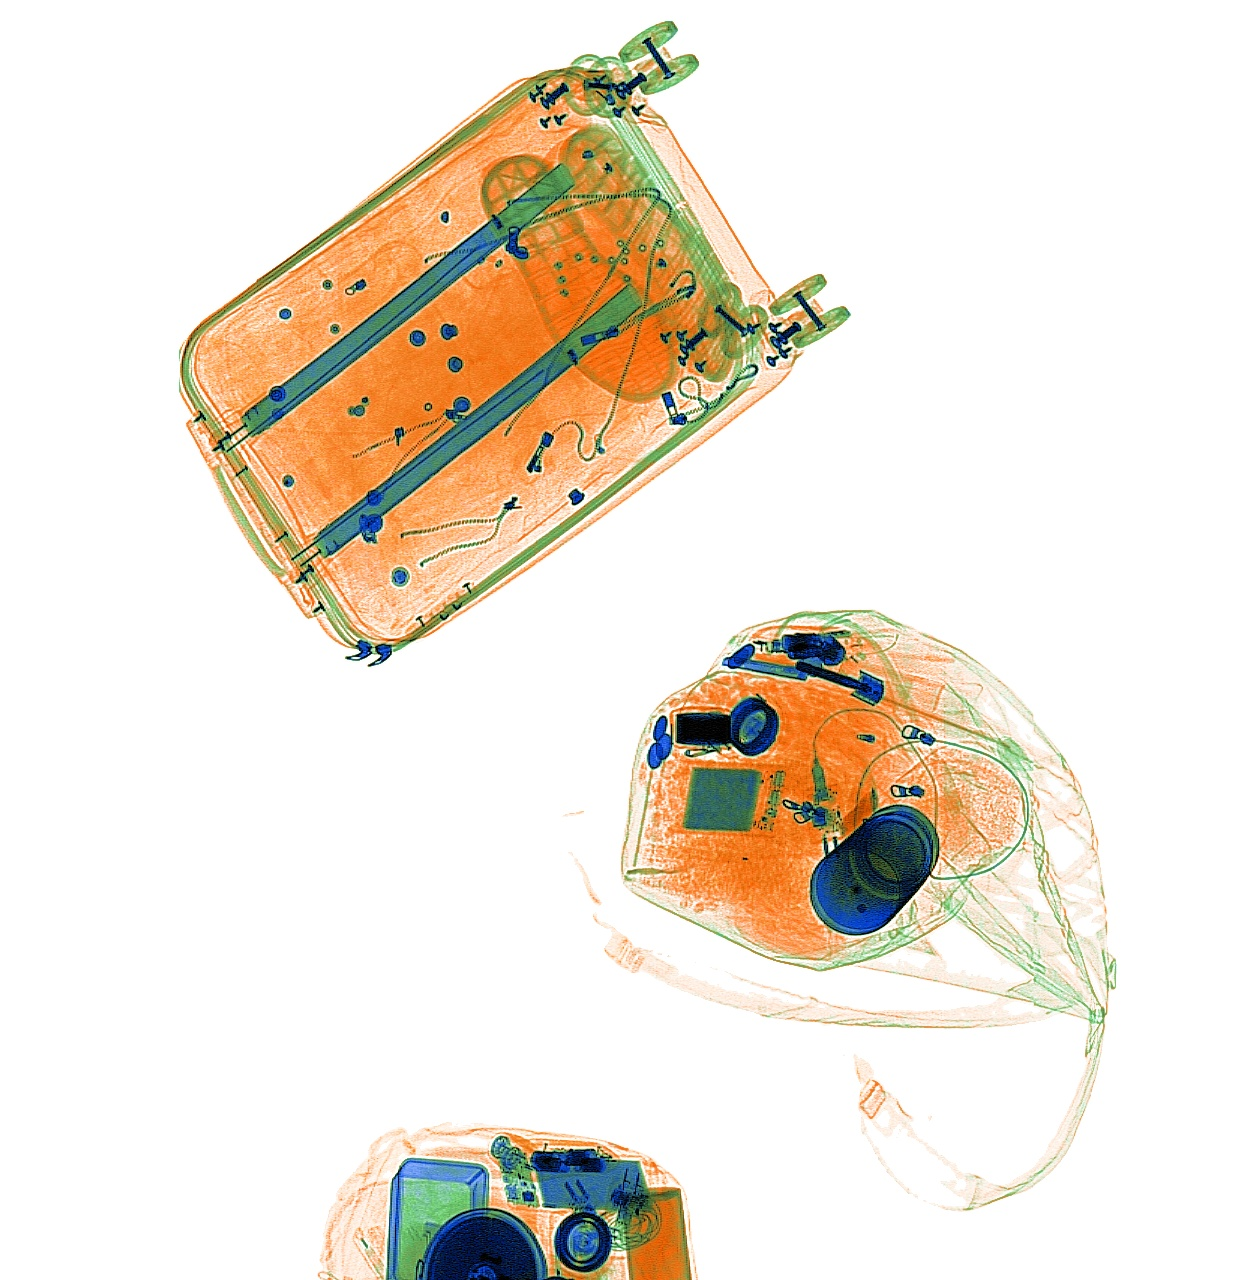guahudao: (789, 655, 888, 713)
metalcup: (802, 799, 943, 936)
smallelectronicequipment: (499, 1149, 662, 1219), (676, 757, 789, 840)
yktsdaopian: (719, 652, 812, 681)
